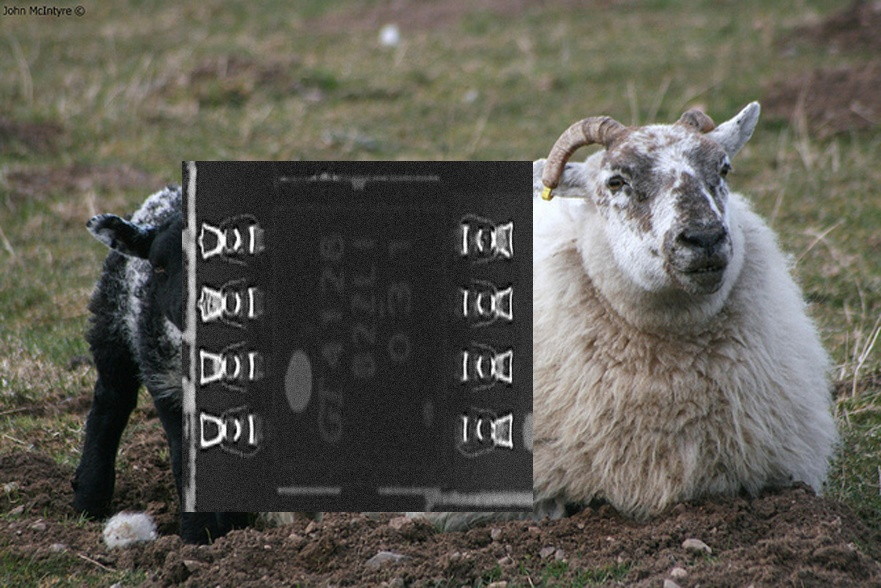PAD: (192, 192, 282, 477), (436, 193, 525, 477)
sheep: (257, 96, 836, 509), (72, 185, 302, 539)
